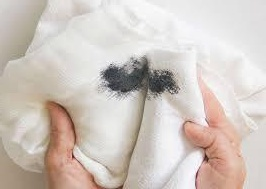ink: (102, 64, 178, 96)
